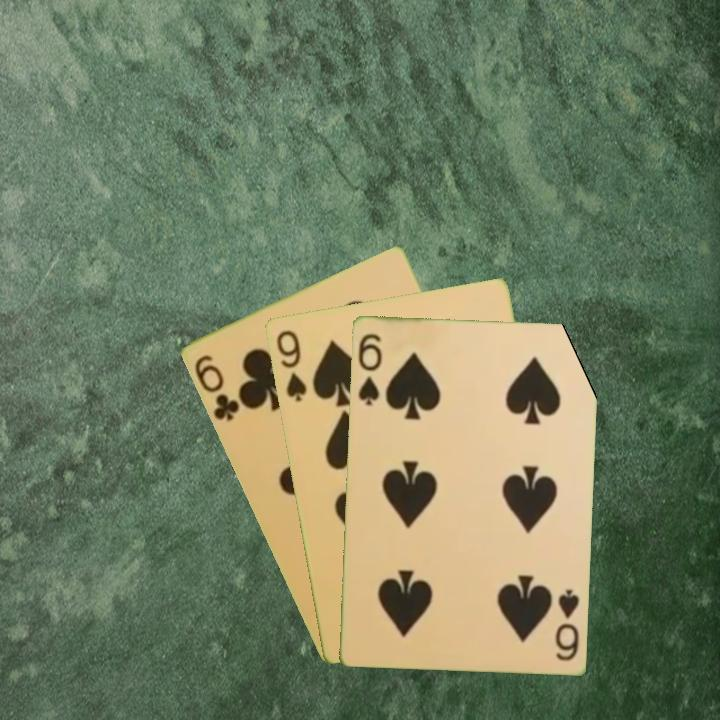6c: (190, 351, 242, 424)
6s: (354, 329, 385, 408), (551, 585, 582, 663)
9s: (272, 326, 310, 404)
